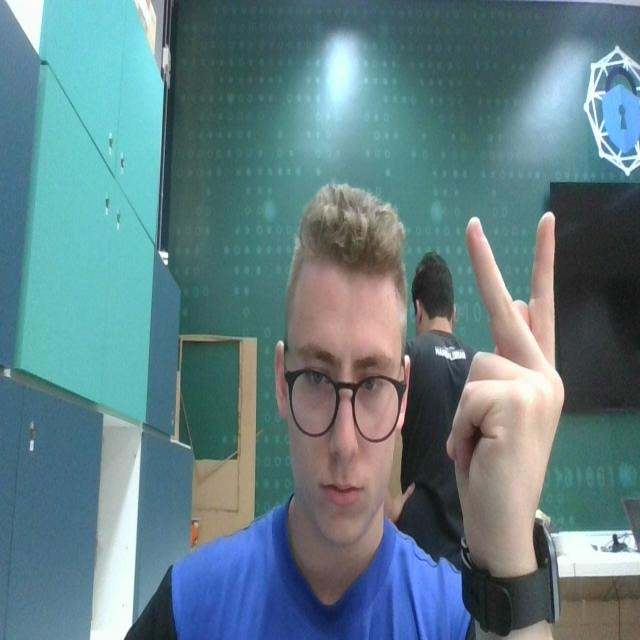K: (444, 199, 567, 546)
